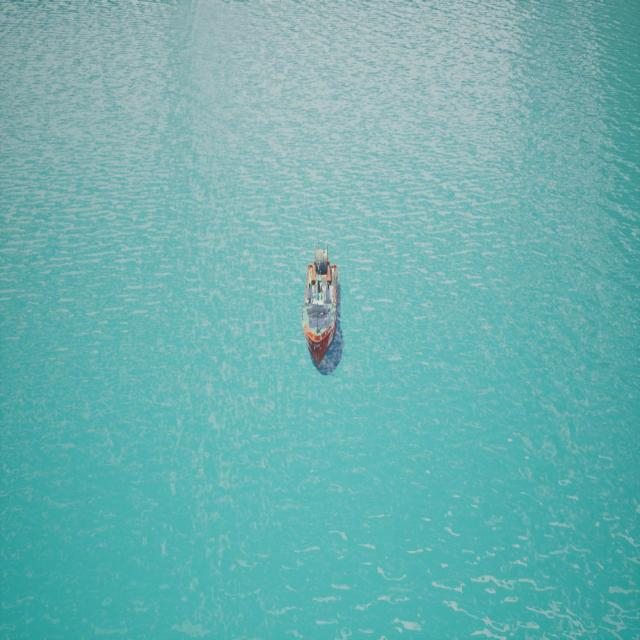tug boat: (302, 252, 342, 378)
